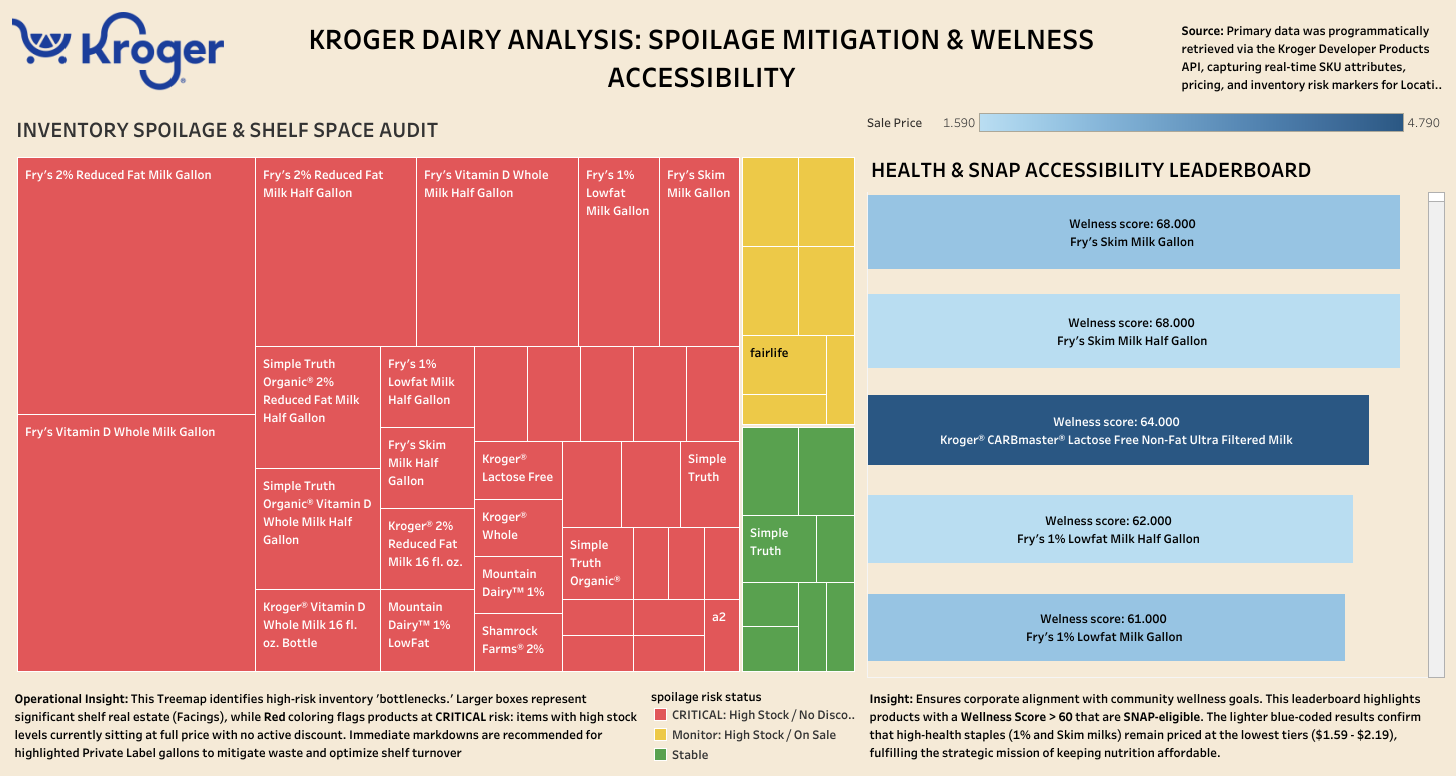

The page's visual inventory and layout, read from the dashboard file:
{"tool":"tableau","page":{"name":"Dashboard 1","canvas":[1000,1000],"units":"permille","ordinal":0},"visuals":[{"type":"image","param":"C:/Users/efbvl/Downloads/Kroger_(2021)_logo.svg.png","box":[4.7,9.3,151,125]},{"type":"text","box":[155.7,9.3,651.3,125]},{"type":"text","box":[807,9.3,188.3,125]},{"type":"worksheet","title":"spoilage","mark":"Automatic","box":[4.7,134.3,587.7,743]},{"type":"legend","title":"SNAP","param":"[federated.1yusy0k06amojl1gqbz650jbti1k].[sum:sale_price:qk]","box":[592.4,134.3,403,51.4]},{"type":"worksheet","title":"SNAP","mark":"Automatic","rows":["product_description"],"cols":["wellness_score"],"box":[592.4,185.8,403,691.6]},{"type":"text","box":[4.7,877.3,438.5,113.3]},{"type":"legend","title":"spoilage","param":"[federated.1yusy0k06amojl1gqbz650jbti1k].[none:Calculation_0798293122813952:nk]","box":[443.2,877.3,149.3,113.3]},{"type":"text","box":[592.4,877.3,402.9,113.3]}]}

Visuals, with their boxes on the dashboard's canvas, which has no fixed pixel size, in thousandths of its width and height (x1, y1, x2, y2). These are canvas units, not pixel positions in the 1456x776 screenshot, which may show the page scaled, cropped or inside an application window:
image: {"x1": 5, "y1": 9, "x2": 156, "y2": 134}
text: {"x1": 156, "y1": 9, "x2": 807, "y2": 134}
text: {"x1": 807, "y1": 9, "x2": 995, "y2": 134}
"spoilage" worksheet: {"x1": 5, "y1": 134, "x2": 592, "y2": 877}
"SNAP" legend: {"x1": 592, "y1": 134, "x2": 995, "y2": 186}
"SNAP" worksheet: {"x1": 592, "y1": 186, "x2": 995, "y2": 877}
text: {"x1": 5, "y1": 877, "x2": 443, "y2": 991}
"spoilage" legend: {"x1": 443, "y1": 877, "x2": 592, "y2": 991}
text: {"x1": 592, "y1": 877, "x2": 995, "y2": 991}
